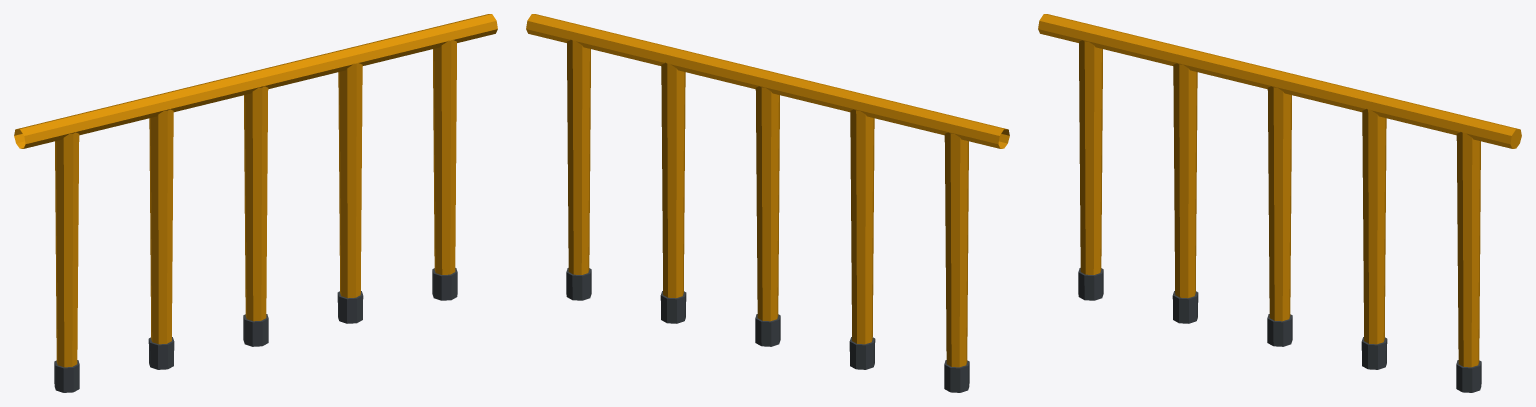
Rendered from Fence_Straight_01.glb.
3 views of the same model, side by side, from view 1: azimuth 30°, elevation 25°; view 2: azimuth 150°, elevation 25°; view 3: azimuth 330°, elevation 25° (orthographic).
Visible parts, largest first — view 1: Fence_Straight_01; view 2: Fence_Straight_01; view 3: Fence_Straight_01.
Boxes of the visible parts, x1,y1,x2,y2 form: Fence_Straight_01: [14, 14, 497, 392]; Fence_Straight_01: [526, 14, 1009, 392]; Fence_Straight_01: [1038, 14, 1521, 392].
Size of what is drawn, in the model's own units: 2 by 1.09 by 0.0966.
1 material, 1 textured.
